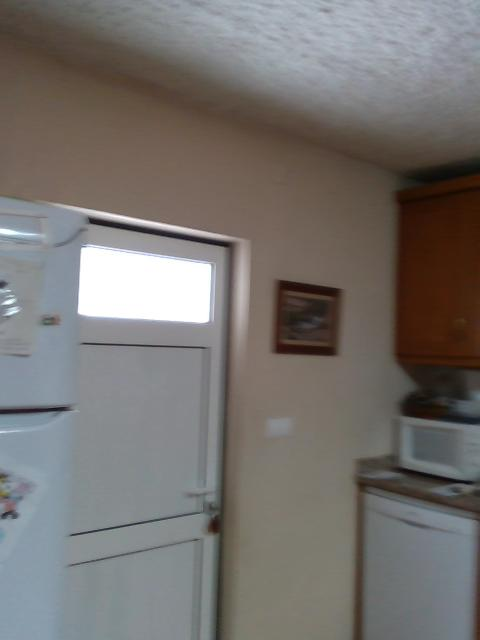door: (64, 221, 236, 637)
